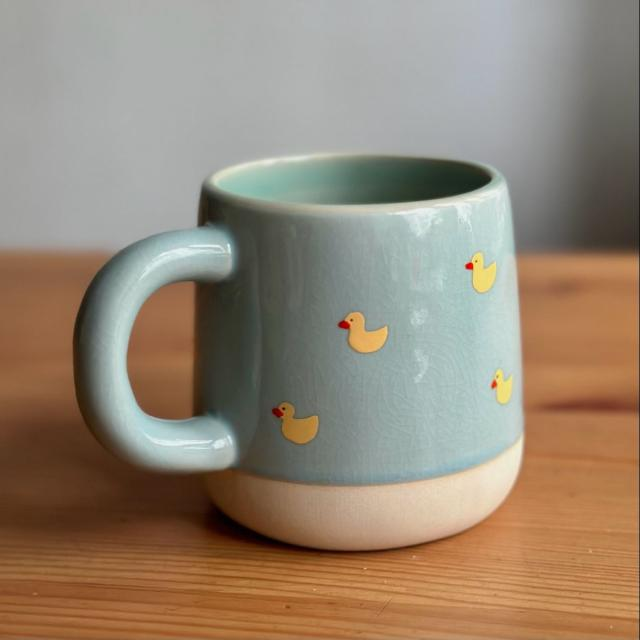glass cup: (74, 154, 524, 550)
